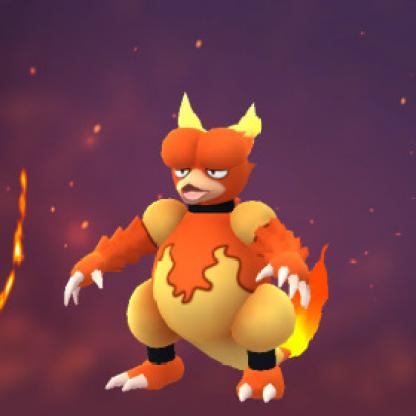Magmar: (63, 89, 347, 410)
